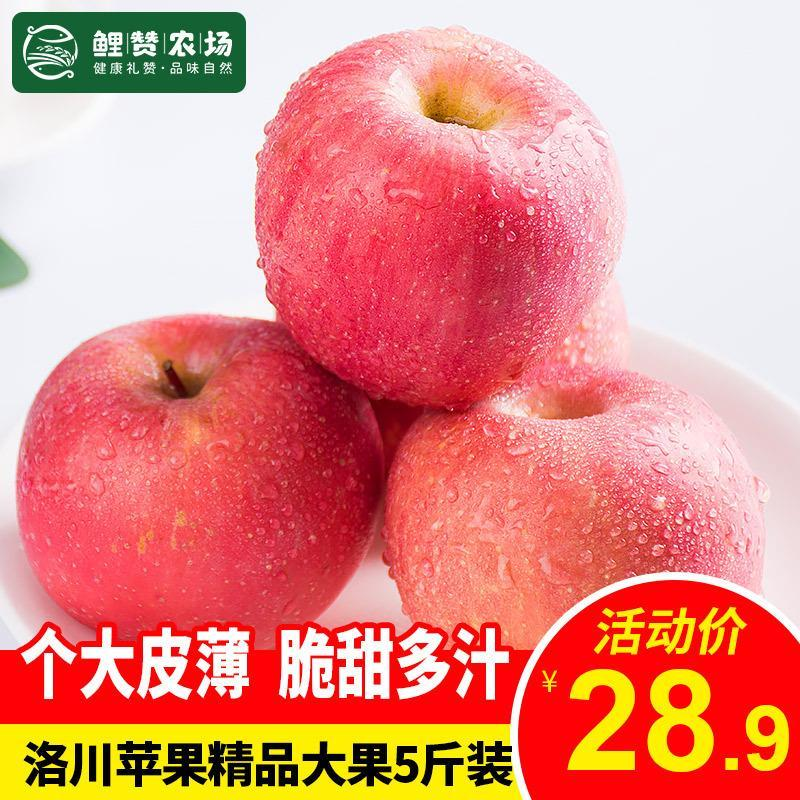apple: (257, 31, 631, 406), (11, 307, 389, 631), (381, 363, 771, 622)
